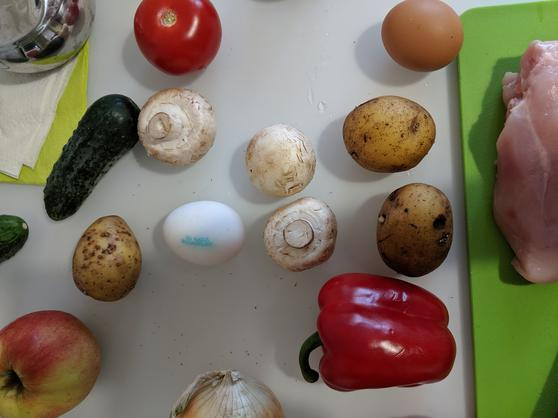champignon: (138, 88, 216, 167), (264, 197, 338, 270), (244, 123, 316, 194)
chicken_fillet: (497, 39, 558, 285)
cucumber: (42, 94, 140, 219)
egg: (380, 1, 464, 68), (160, 200, 246, 263)
onion: (173, 371, 282, 418)
pepper: (301, 274, 457, 391)
potato: (341, 95, 436, 171), (379, 183, 453, 278), (72, 215, 142, 301)
tomato: (133, 1, 222, 76)
